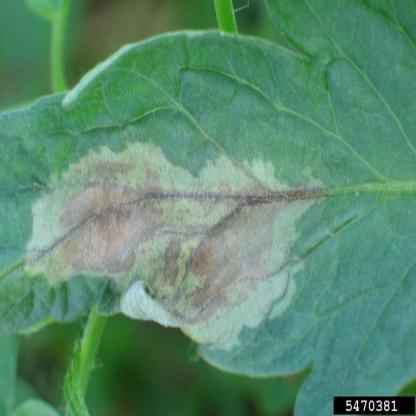tomato leaf late blight: (3, 26, 415, 384)
